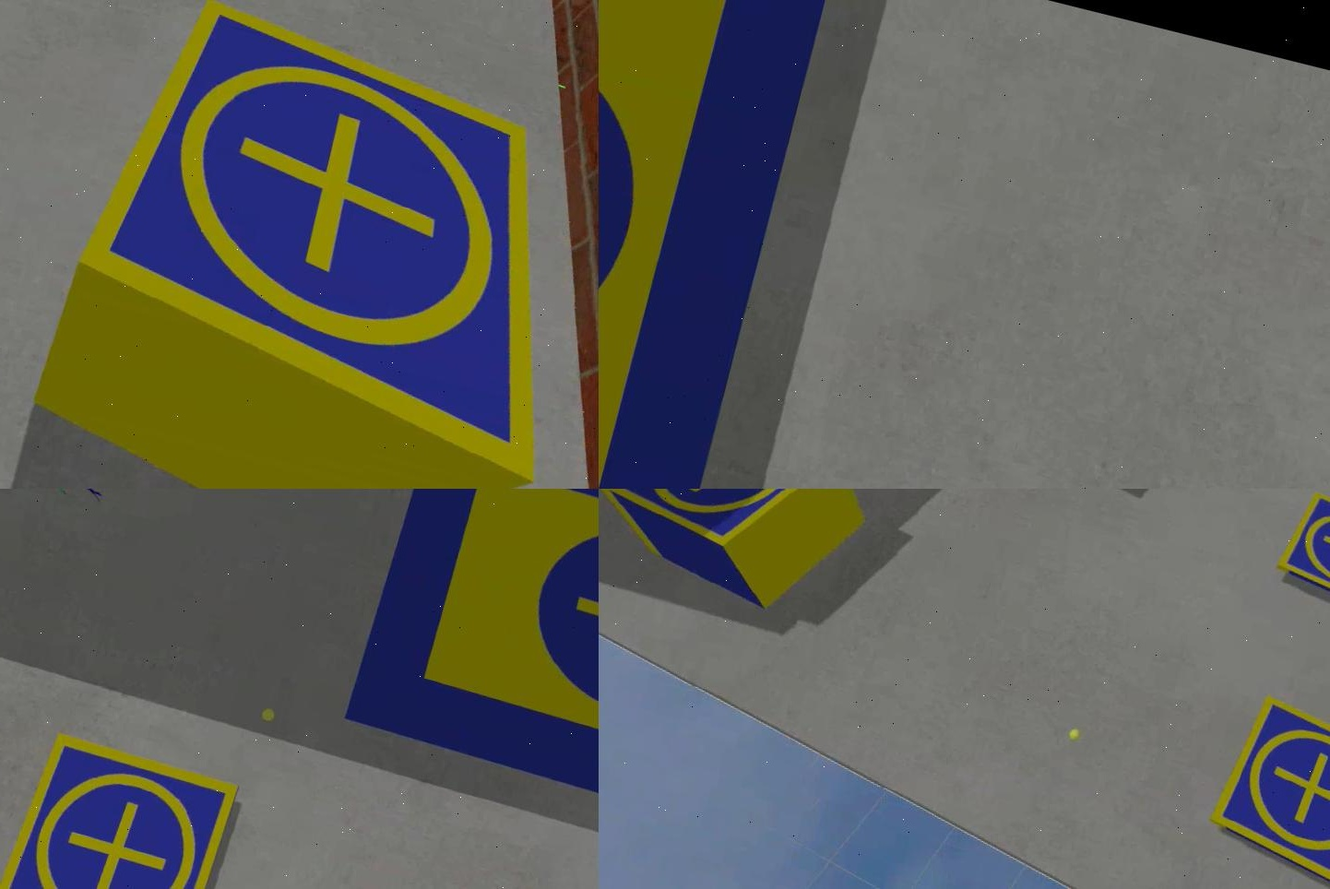large_base: (598, 1, 842, 490), (338, 490, 598, 868)
small_base: (48, 1, 598, 490), (0, 728, 239, 889), (1203, 691, 1328, 889), (598, 490, 850, 579), (1269, 490, 1328, 622)
